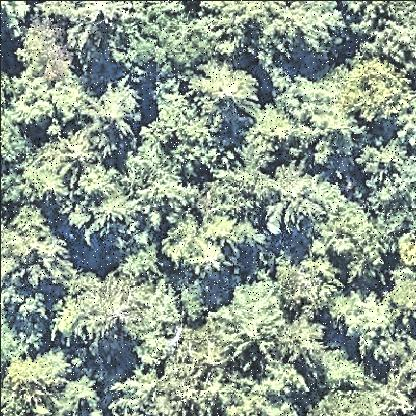tree-top: (118, 142, 193, 240), (115, 4, 214, 78), (274, 77, 349, 166), (143, 91, 221, 176), (317, 188, 389, 273), (249, 2, 347, 62), (1, 206, 75, 284), (68, 161, 130, 247), (253, 166, 331, 234), (220, 358, 311, 416), (70, 274, 140, 349), (343, 56, 415, 128), (216, 281, 286, 355), (270, 254, 342, 322), (195, 180, 264, 249), (15, 20, 81, 86), (188, 67, 258, 127), (159, 221, 227, 279), (342, 130, 410, 188), (353, 2, 416, 64), (155, 354, 216, 416), (337, 291, 392, 355), (197, 1, 256, 60), (2, 354, 59, 414), (1, 288, 48, 359), (67, 1, 119, 63), (371, 177, 416, 247), (83, 89, 145, 139), (110, 360, 164, 416), (24, 151, 79, 205), (273, 315, 329, 368), (382, 335, 416, 416), (8, 68, 54, 125), (231, 138, 276, 196), (310, 387, 392, 416), (324, 352, 376, 396), (383, 268, 416, 326), (67, 375, 103, 413)
